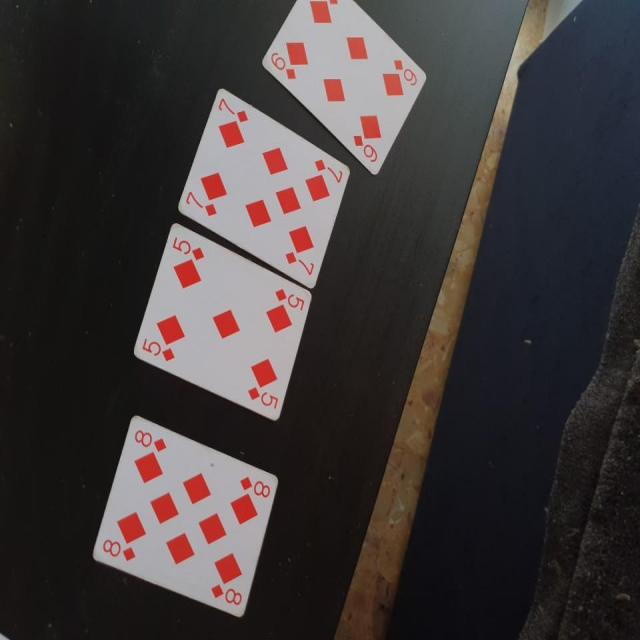5 Diamonds: (131, 222, 314, 425)
6 Diamonds: (259, 1, 428, 182)
7 Diamonds: (178, 88, 352, 292)
8 Diamonds: (93, 414, 278, 622)
